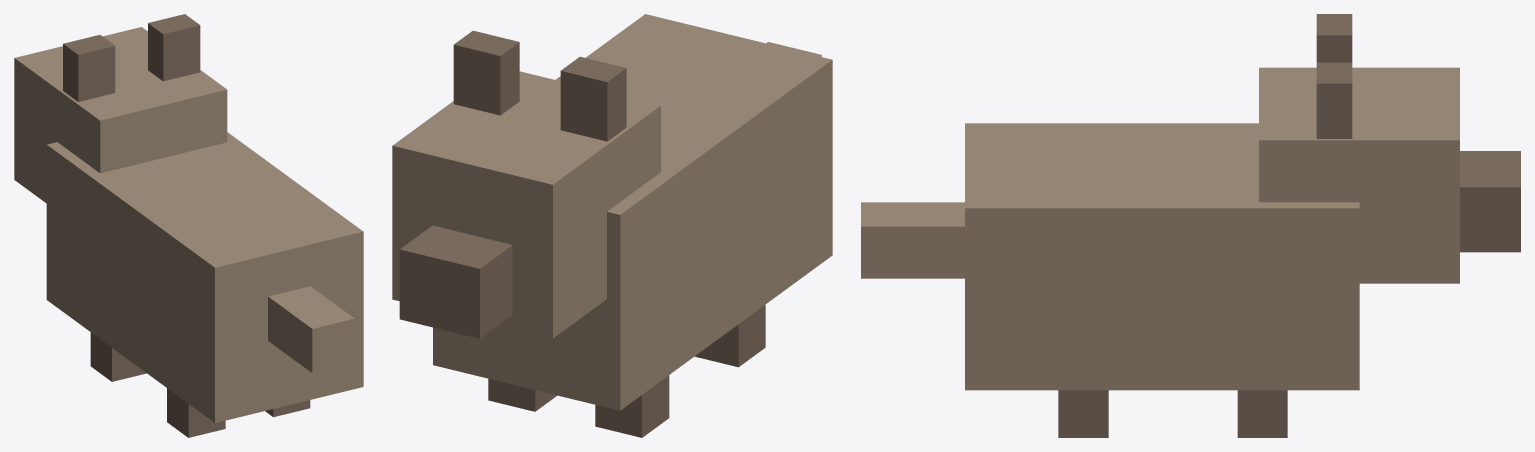
Rendered from voxel_wolf.glb.
3 views of the same model, side by side, from view 1: azimuth 30°, elevation 25°; view 2: azimuth 150°, elevation 25°; view 3: azimuth 270°, elevation 25° (orthographic). The views are drawn at different scales.
Visible parts, largest first — view 1: w_body, w_head, w_tail, w_earL, w_earR, w_leg.001, w_leg, w_leg.003; view 2: w_body, w_head, w_snout, w_earL, w_earR, w_leg, w_leg.001, w_leg.002; view 3: w_body, w_head, w_tail, w_snout, w_earR, w_leg.002, w_leg.003, w_earL.
Boxes of the visible parts, x1,y1,x2,y2 form: w_body: (46,132,363,422); w_head: (14,27,227,203); w_tail: (268,286,354,373); w_earL: (63,35,115,101); w_earR: (148,14,200,81); w_leg.001: (167,388,225,437); w_leg: (90,332,146,381); w_leg.003: (265,400,310,417); w_body: (433,14,832,410); w_head: (392,71,660,338); w_snout: (399,225,512,338); w_earL: (560,56,626,141); w_earR: (453,30,519,115); w_leg: (595,375,669,437); w_leg.001: (695,304,765,367); w_leg.002: (488,378,557,411); w_body: (965,123,1359,390); w_head: (1259,67,1459,283); w_tail: (861,202,964,278); w_snout: (1460,151,1520,252); w_earR: (1316,62,1352,138); w_leg.002: (1237,390,1287,437); w_leg.003: (1058,390,1108,437); w_earL: (1316,14,1352,62).
Bounding box in the file's own units: 0.56 × 1.09 × 1.84.
